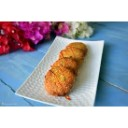cutlet: (44, 66, 73, 96), (52, 58, 78, 71), (66, 42, 87, 57), (60, 49, 82, 62)
